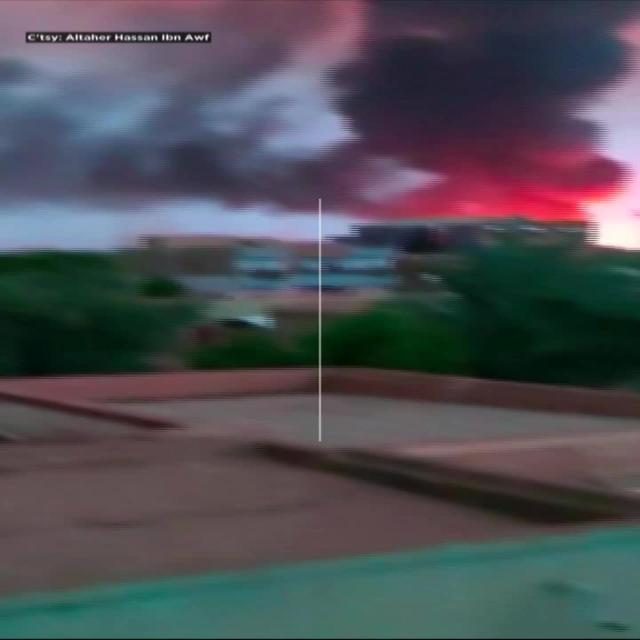Smoke: (0, 0, 375, 161), (388, 0, 590, 121)
